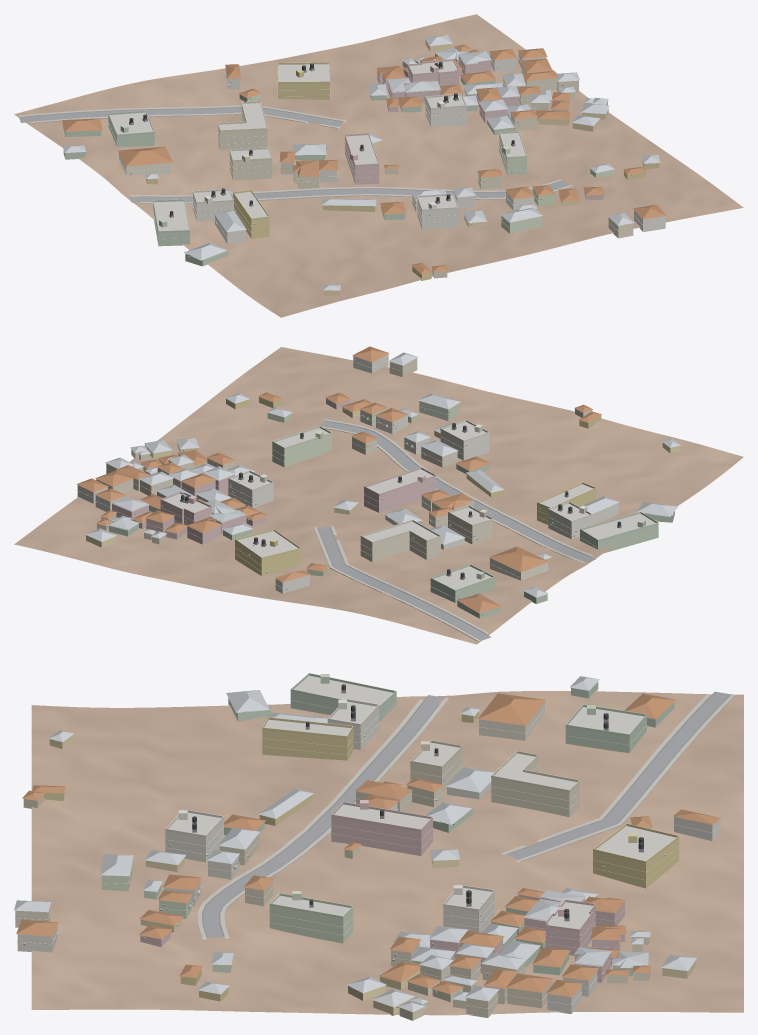
3 views of the same model, one above another, from view 1: azimuth 30°, elevation 25°; view 2: azimuth 150°, elevation 25°; view 3: azimuth 270°, elevation 25° (orthographic). The views are drawn at different scales.
Visible parts, largest first — view 1: Terrain-col, Buildings-col, Details, Roads-col, Sidewalks-col; view 2: Terrain-col, Buildings-col, Details, Roads-col, Sidewalks-col; view 3: Terrain-col, Buildings-col, Details, Roads-col, Sidewalks-col.
Part boxes in pixels (<box>): Terrain-col: <box>14,14,743,317</box>; Buildings-col: <box>62,35,666,295</box>; Details: <box>108,57,665,257</box>; Roads-col: <box>19,107,568,202</box>; Sidewalks-col: <box>18,105,572,203</box>; Terrain-col: <box>14,347,743,644</box>; Buildings-col: <box>76,346,680,618</box>; Details: <box>77,359,673,614</box>; Roads-col: <box>317,421,595,640</box>; Sidewalks-col: <box>313,419,593,641</box>; Terrain-col: <box>31,691,743,1015</box>; Buildings-col: <box>14,675,721,1020</box>; Details: <box>15,673,720,1009</box>; Roads-col: <box>202,691,731,937</box>; Sidewalks-col: <box>197,694,735,939</box>.
Bounding box in the file's own units: 271 × 18.24 × 262.
